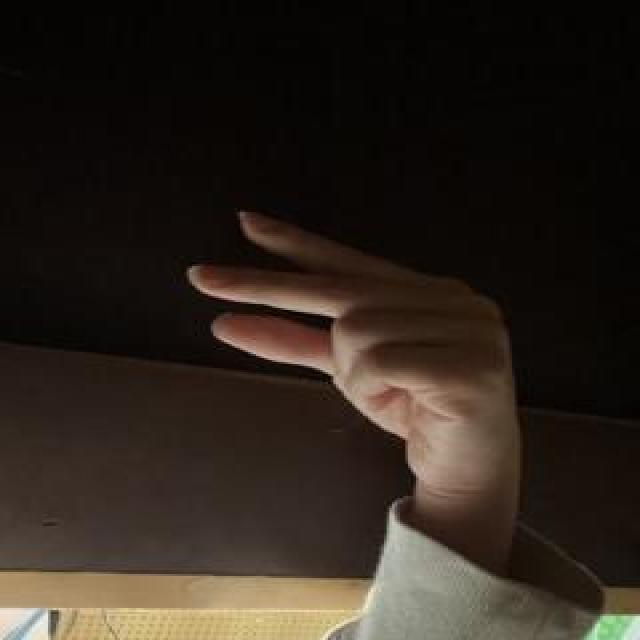H: (171, 203, 528, 469)
